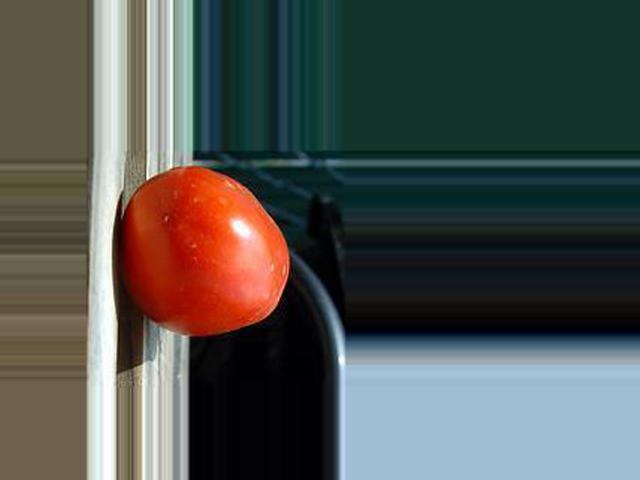tomato: (121, 166, 289, 335)
